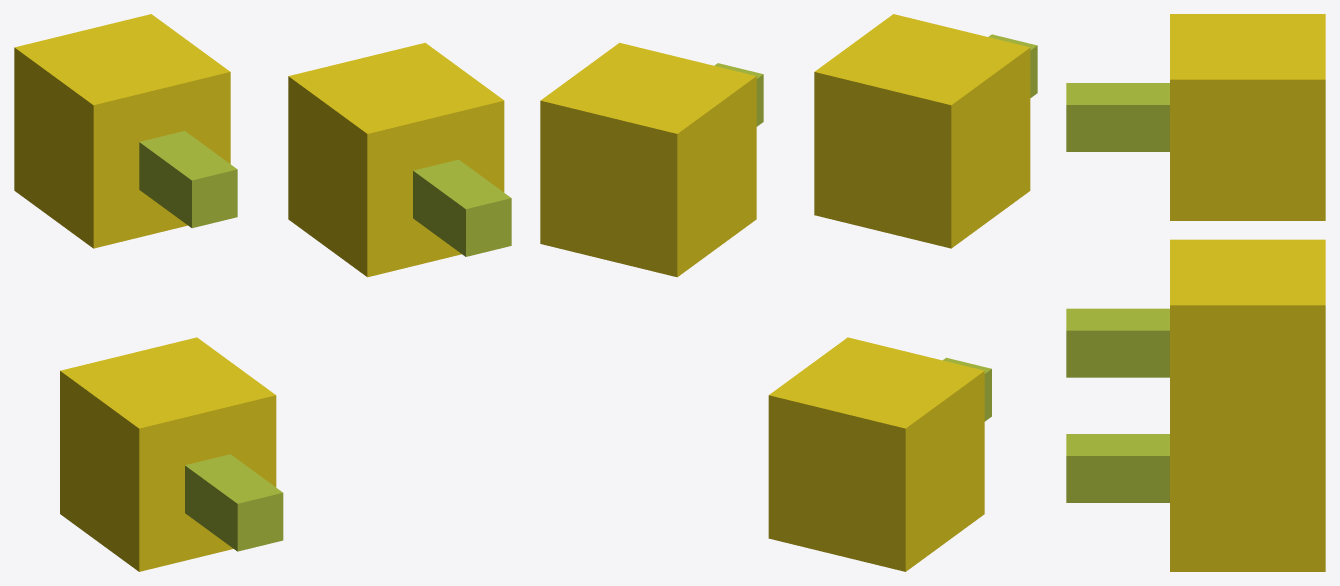
File: Flowers1.fbx
The picture shows the model from 3 angles, left to right: view 1: azimuth 30°, elevation 25°; view 2: azimuth 150°, elevation 25°; view 3: azimuth 270°, elevation 25°; orthographic projection.
Parts seen in each view (by area): view 1: Cube.001; view 2: Cube.001; view 3: Cube.001.
Part boxes in pixels (x1,y1,x2,y2): Cube.001: [14, 14, 511, 571]; Cube.001: [540, 14, 1037, 571]; Cube.001: [1066, 14, 1325, 571].
Size of the model in its own units: 1 by 0.5 by 0.9.
